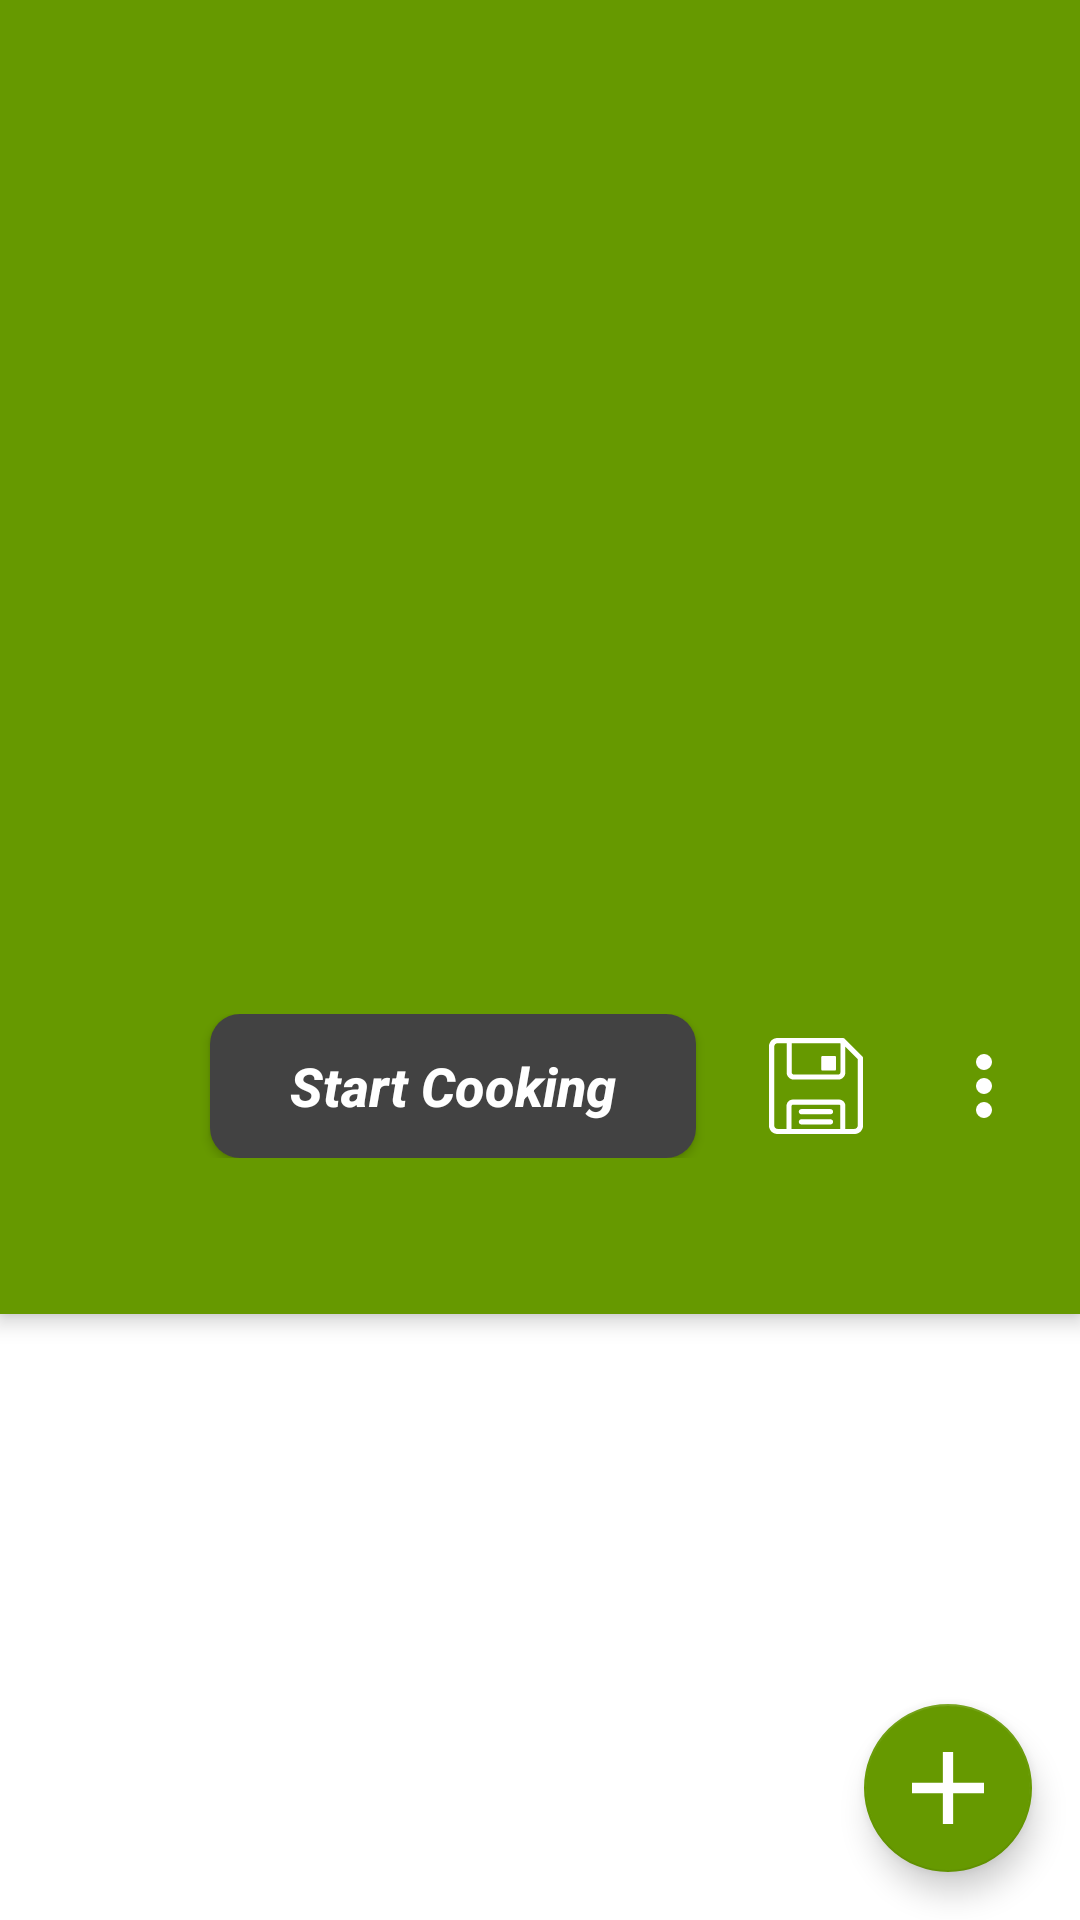

Screen size 1080×1920. Icon name, then its box in pixels as {"left": x1, "top": y1, "right": x2, "bottom": y2}:
floppy disk: {"left": 769, "top": 1038, "right": 863, "bottom": 1134}
more vertical: {"left": 976, "top": 1054, "right": 992, "bottom": 1118}
plus: {"left": 864, "top": 1704, "right": 1032, "bottom": 1872}
